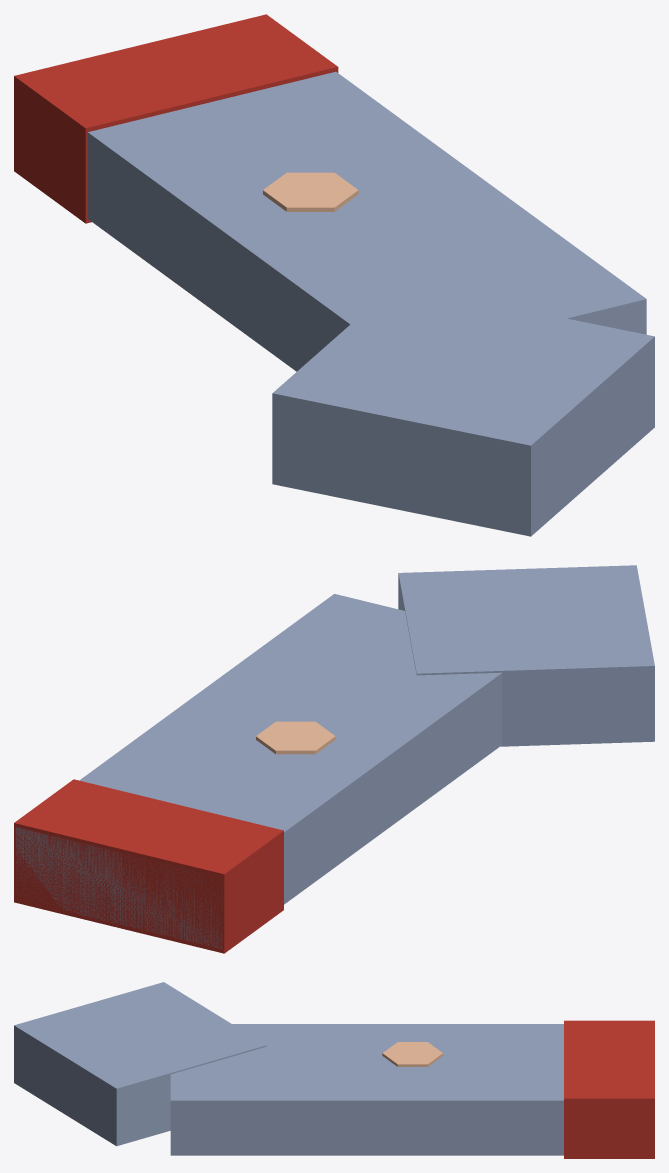
Rendered from sock.fbx.
The picture shows the model from 3 angles, top to bottom: view 1: azimuth 30°, elevation 25°; view 2: azimuth 150°, elevation 25°; view 3: azimuth 270°, elevation 25°; orthographic projection. The views are drawn at different scales.
Parts seen in each view (by area): view 1: sock; view 2: sock; view 3: sock.
Part boxes in pixels (bbox=[...]): sock: bbox=[14, 14, 654, 536]; sock: bbox=[14, 565, 654, 953]; sock: bbox=[14, 982, 654, 1158].
Bounding box in the file's own units: 0.3688 × 0.088 × 0.8468.
